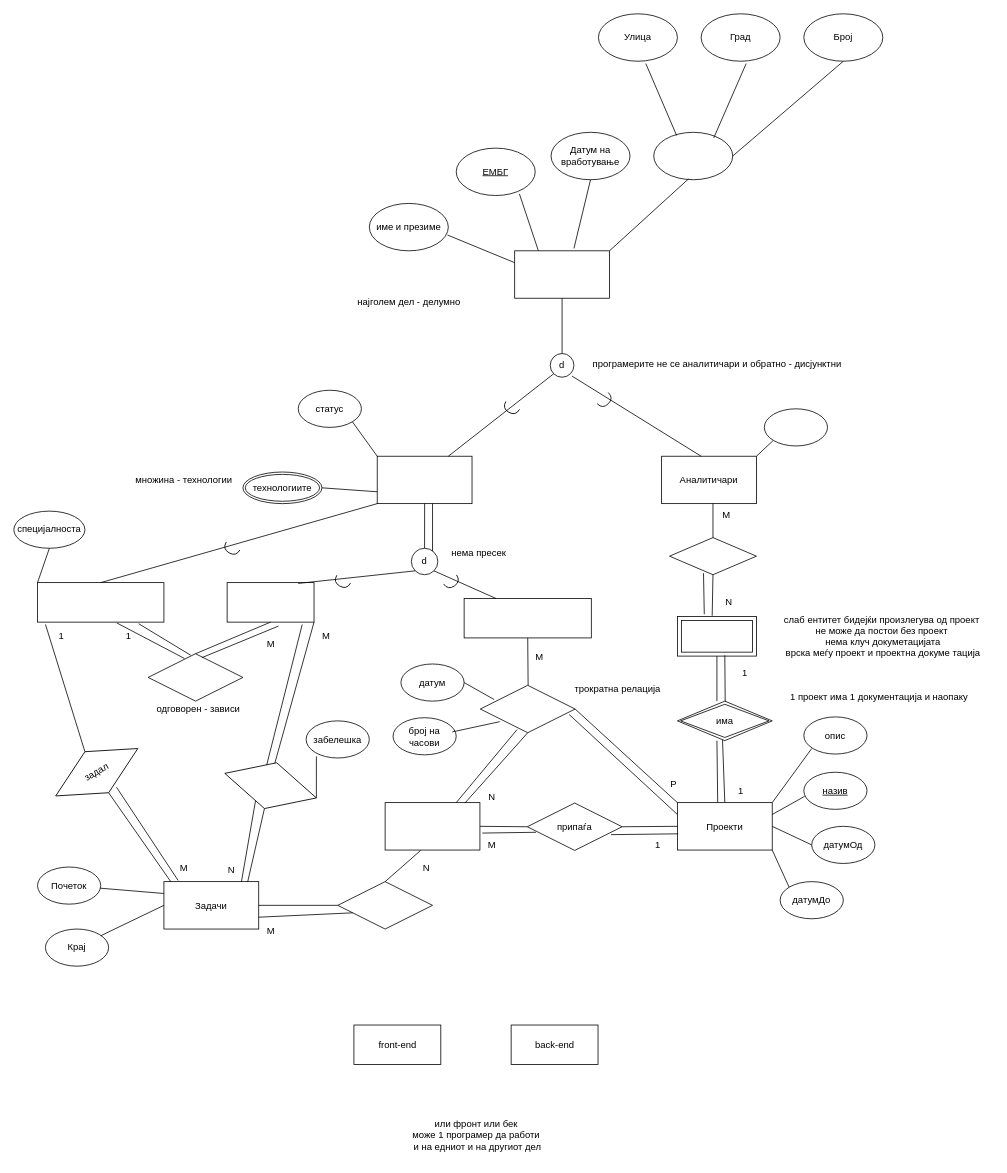
Image size: 1007x1173. Some labels were removed from this diagram. The box of each missing label's shape, as (x1, y1, x2, y2) in pixels:
Адреса: (653, 132, 733, 180)
вработен: (514, 250, 609, 298)
диплома: (764, 408, 828, 446)
за: (337, 881, 433, 929)
извршување: (218, 750, 323, 821)
Имплементатор(фронт и бек енд): (463, 598, 591, 638)
имплементација: (480, 685, 575, 733)
Менаџери: (37, 582, 164, 622)
Модул: (384, 802, 480, 850)
одговорен: (147, 653, 243, 701)
Програмери: (376, 455, 472, 504)
Проектна документација: (677, 616, 756, 656)
работат на: (669, 537, 756, 575)
Тестери: (226, 582, 314, 622)
